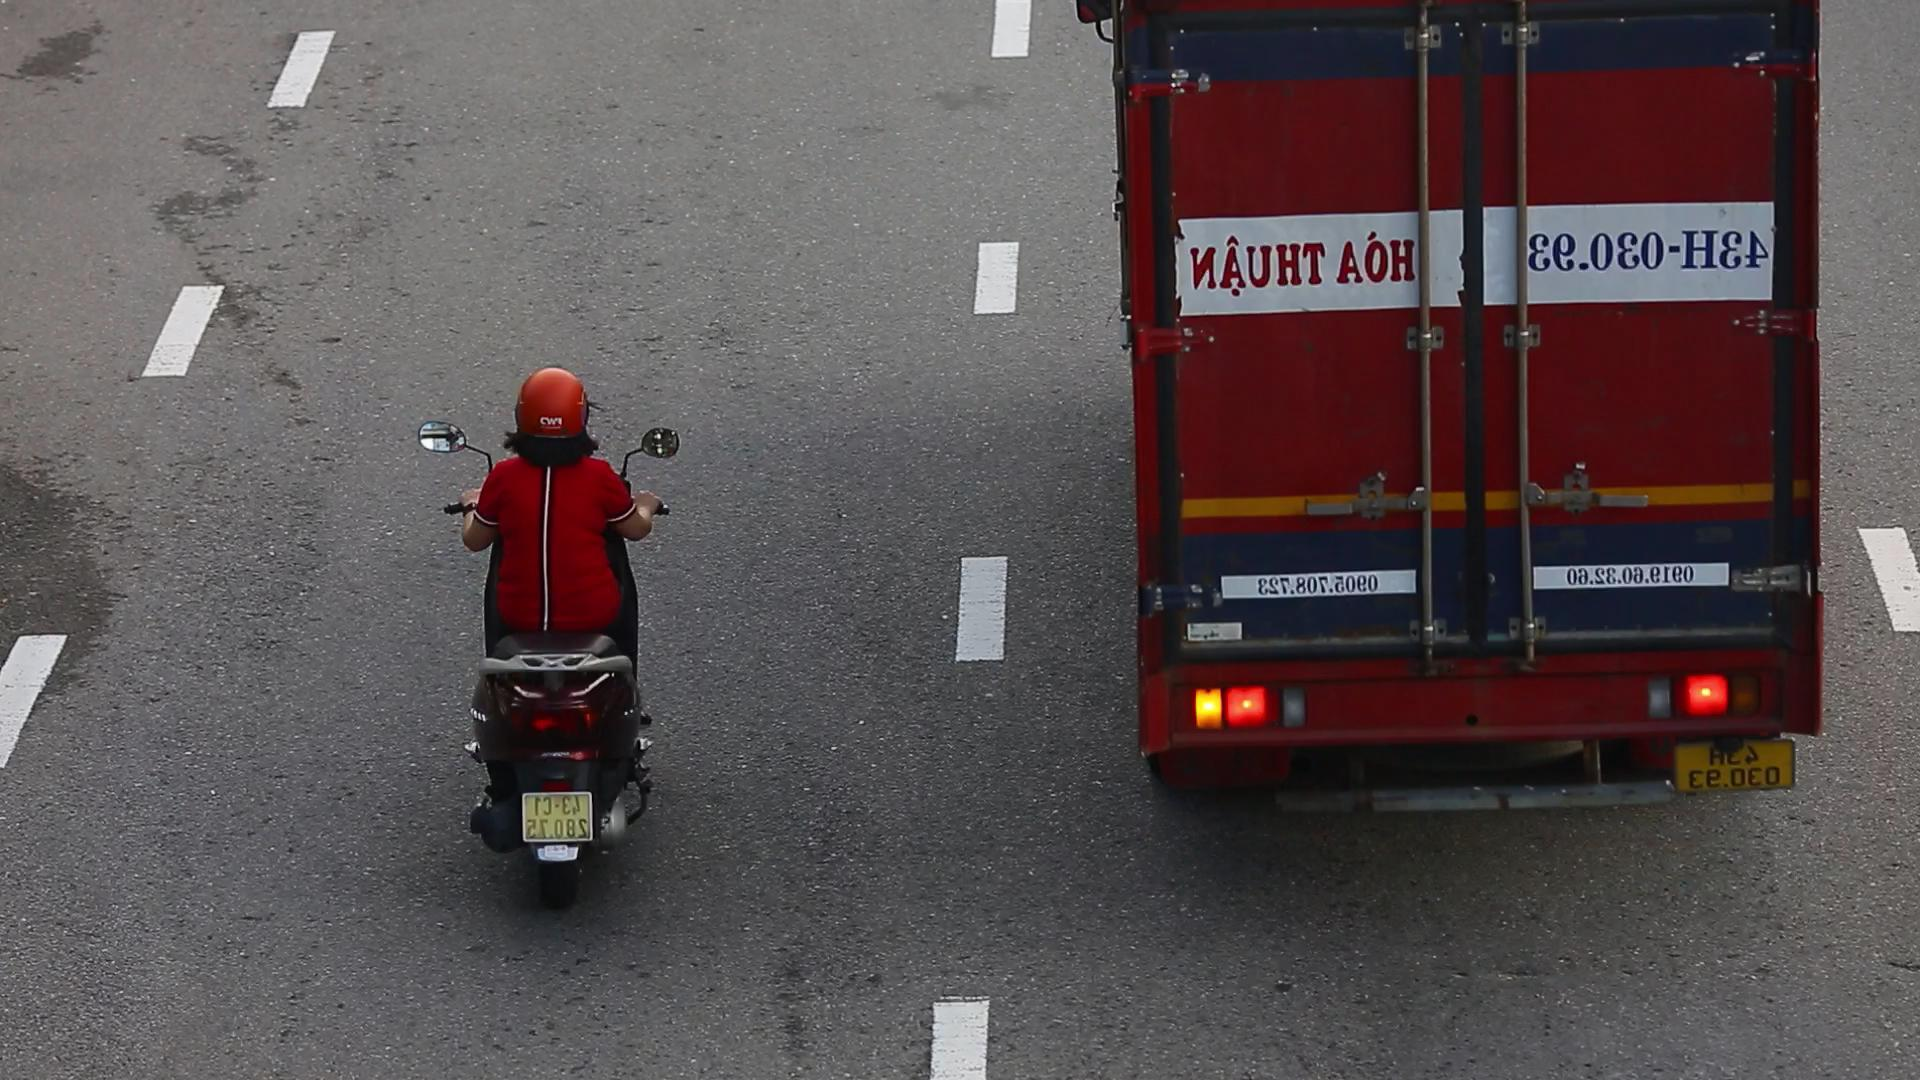motobike: (410, 359, 694, 909)
